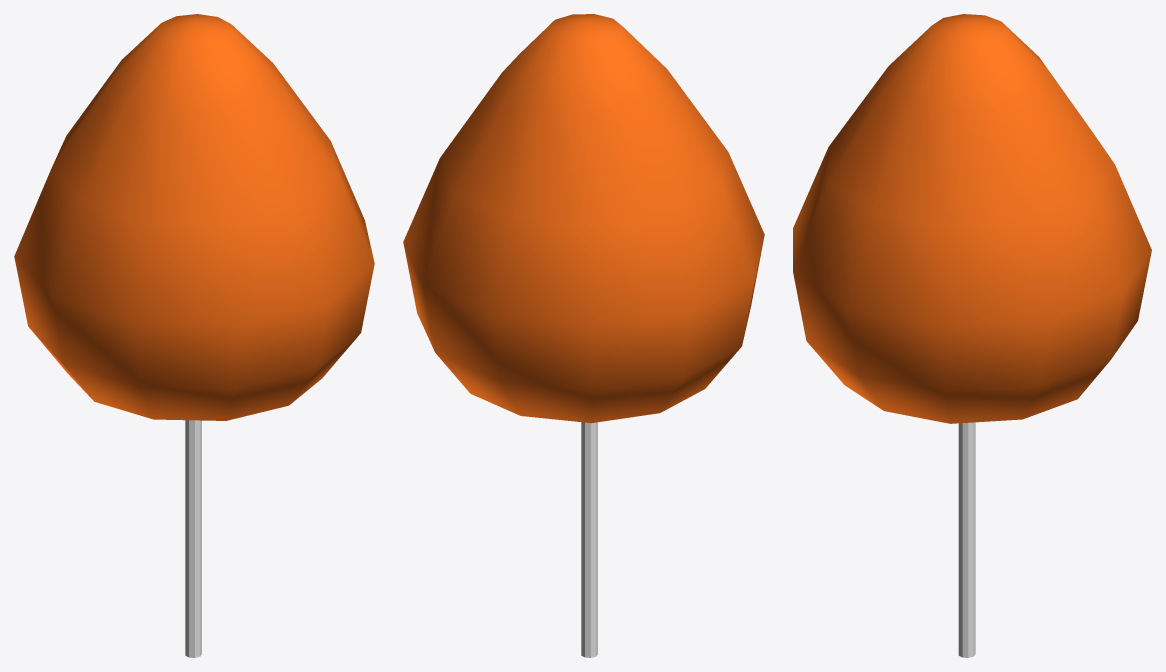
Rendered from 020_Candy_Tree_031.fbx.
3 views of the same model, side by side, from view 1: azimuth 30°, elevation 25°; view 2: azimuth 150°, elevation 25°; view 3: azimuth 270°, elevation 25° (orthographic).
Visible parts, largest first — view 1: Sphere.068, Cylinder.054; view 2: Sphere.068, Cylinder.054; view 3: Sphere.068, Cylinder.054.
Boxes of the visible parts, bbox=[...] form: Sphere.068: bbox=[14, 14, 374, 420]; Cylinder.054: bbox=[185, 420, 201, 657]; Sphere.068: bbox=[403, 14, 764, 423]; Cylinder.054: bbox=[581, 422, 597, 657]; Sphere.068: bbox=[793, 14, 1151, 423]; Cylinder.054: bbox=[958, 422, 975, 657].
Bounding box in the file's own units: 119 × 229 × 118.
